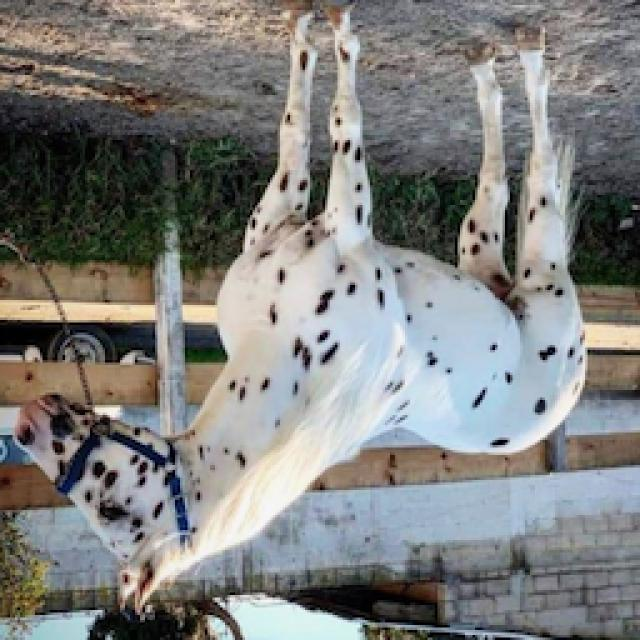Horse: (7, 2, 595, 618)
